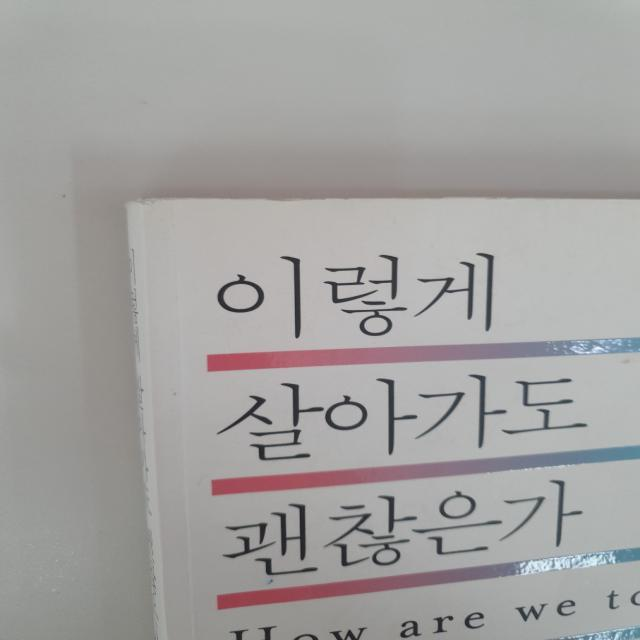Wornout: (247, 190, 358, 212), (119, 190, 193, 212), (481, 185, 523, 207)
